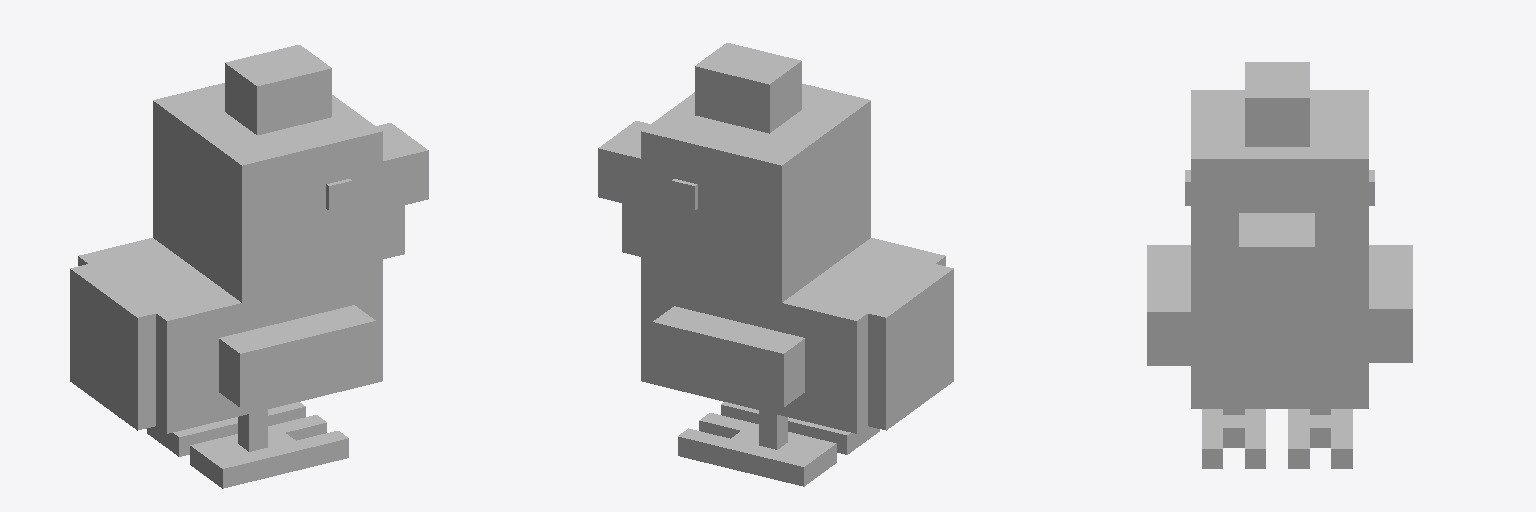
Rendered from Chicken.obj.
The picture shows the model from 3 angles: view 1: azimuth 30°, elevation 25°; view 2: azimuth 150°, elevation 25°; view 3: azimuth 270°, elevation 25°; orthographic projection.
Parts seen in each view (by area): view 1: object 1; view 2: object 1; view 3: object 1.
Part boxes in pixels (left/top/right/bottom): object 1: left=70, top=45, right=428, bottom=488; object 1: left=598, top=43, right=953, bottom=486; object 1: left=1147, top=62, right=1412, bottom=468.
Bounding box in the file's own units: 6.5 × 7.6 × 4.9.